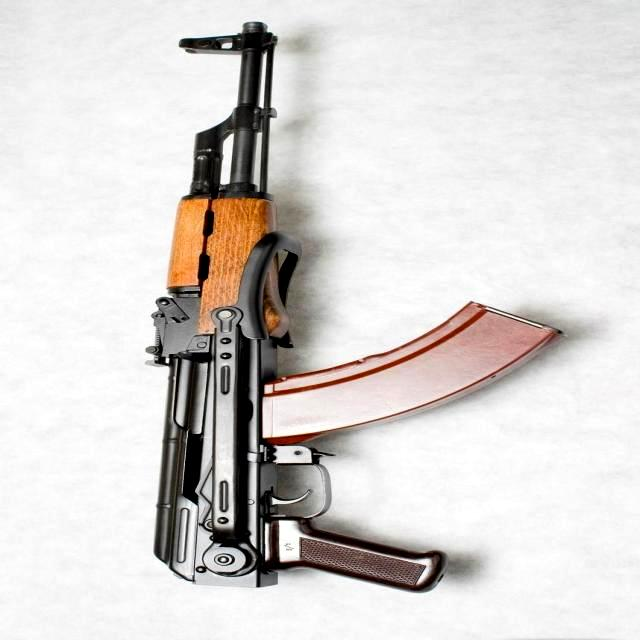ak: (144, 18, 565, 596)
